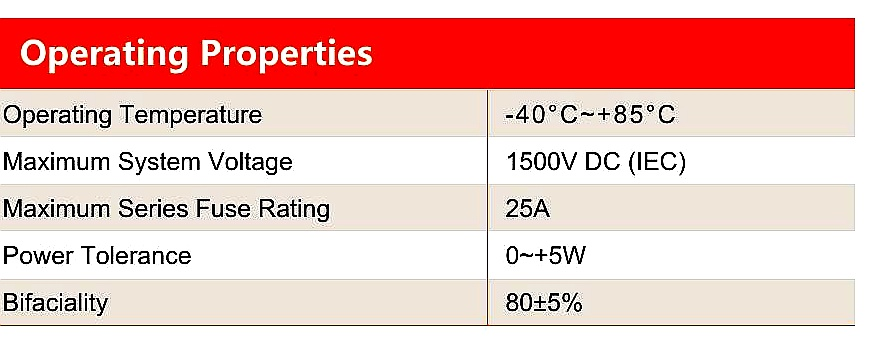table: (1, 12, 866, 335)
table column: (1, 19, 489, 326), (488, 21, 853, 325)
table name: (1, 22, 853, 85)
table row: (1, 21, 855, 88), (1, 90, 855, 138), (1, 138, 855, 185), (1, 278, 853, 323), (1, 187, 854, 231), (1, 234, 854, 278)
table row header: (3, 19, 487, 323)
table spanning cell: (2, 21, 855, 89)
